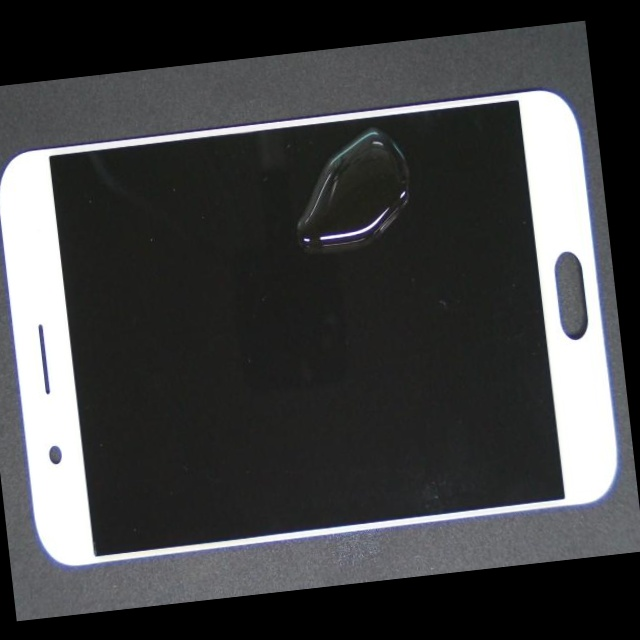oil: (190, 105, 605, 240)
